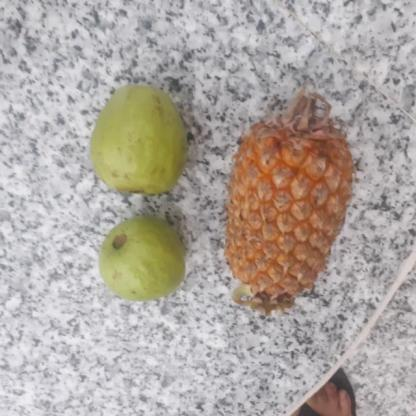guava: (85, 85, 191, 191), (92, 216, 186, 301)
pineapple: (224, 117, 357, 309)
